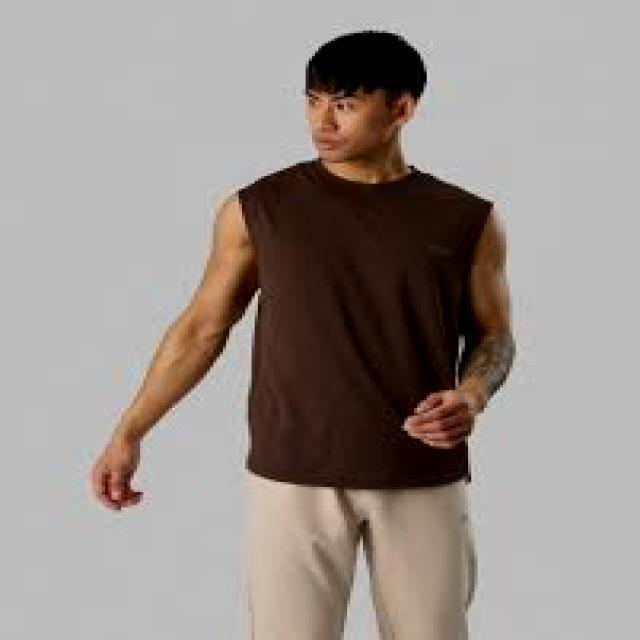no_vest: (240, 158, 494, 487)
